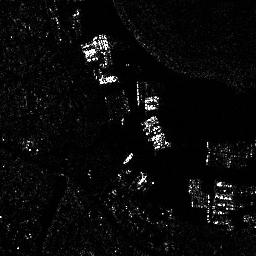ship: (122, 151, 134, 165)
